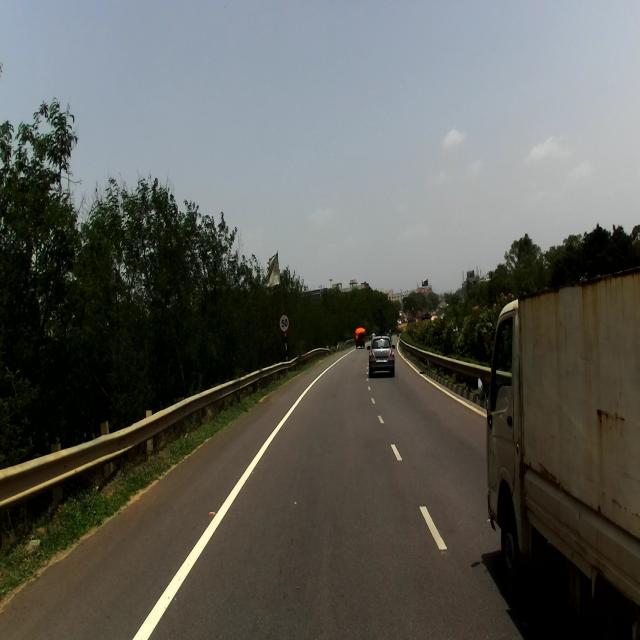Car_Maruti-Suzuki: (367, 331, 396, 378)
truck: (476, 263, 639, 625)
